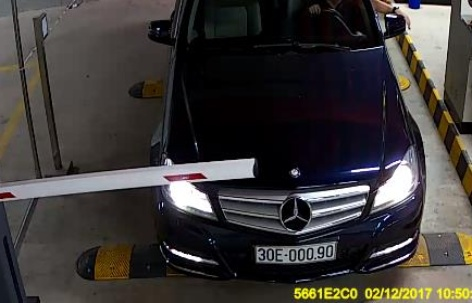plate: (249, 237, 340, 264)
